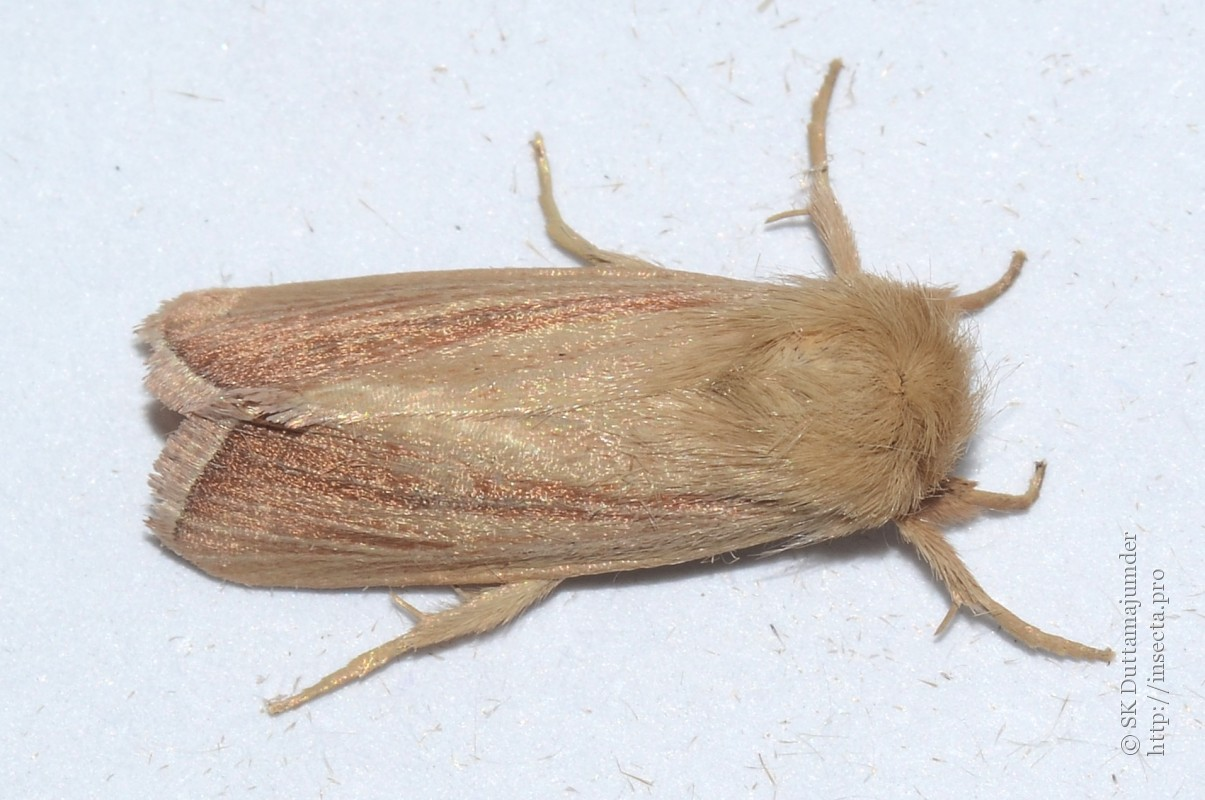Noctuidae: (135, 56, 1120, 719)
